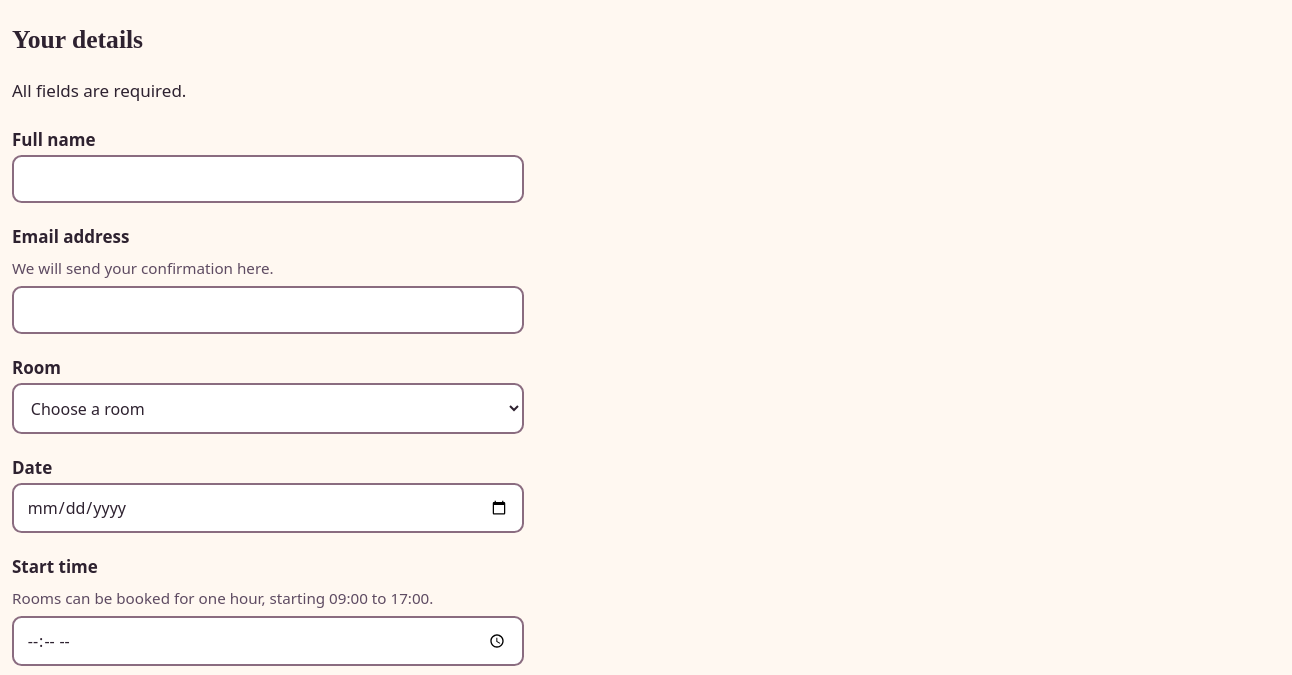
Scenario: Booking Form › announces the error as soon as someone leaves an empty field
Click the field labelled "Full name" at (268, 179), box [12, 155, 524, 203]
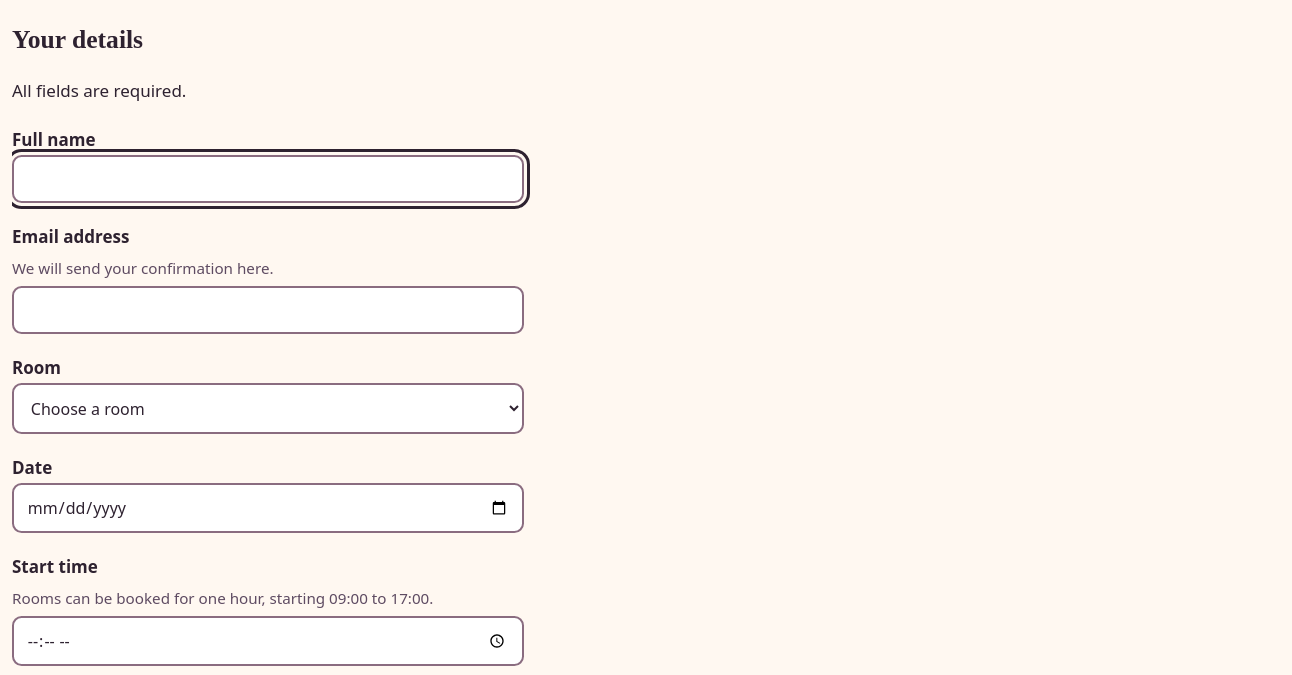
Press Tab
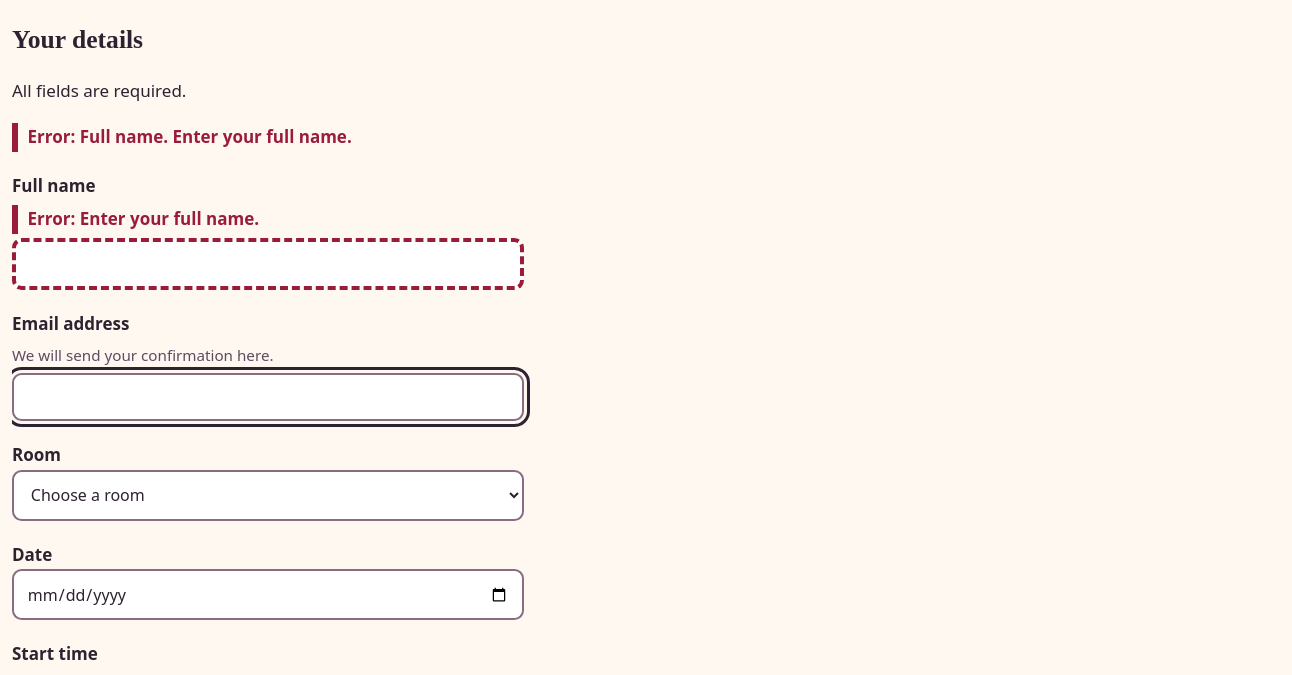
Result: the element showing "Error: Full name. Enter your full name." is shown at [12, 123, 1291, 152]
